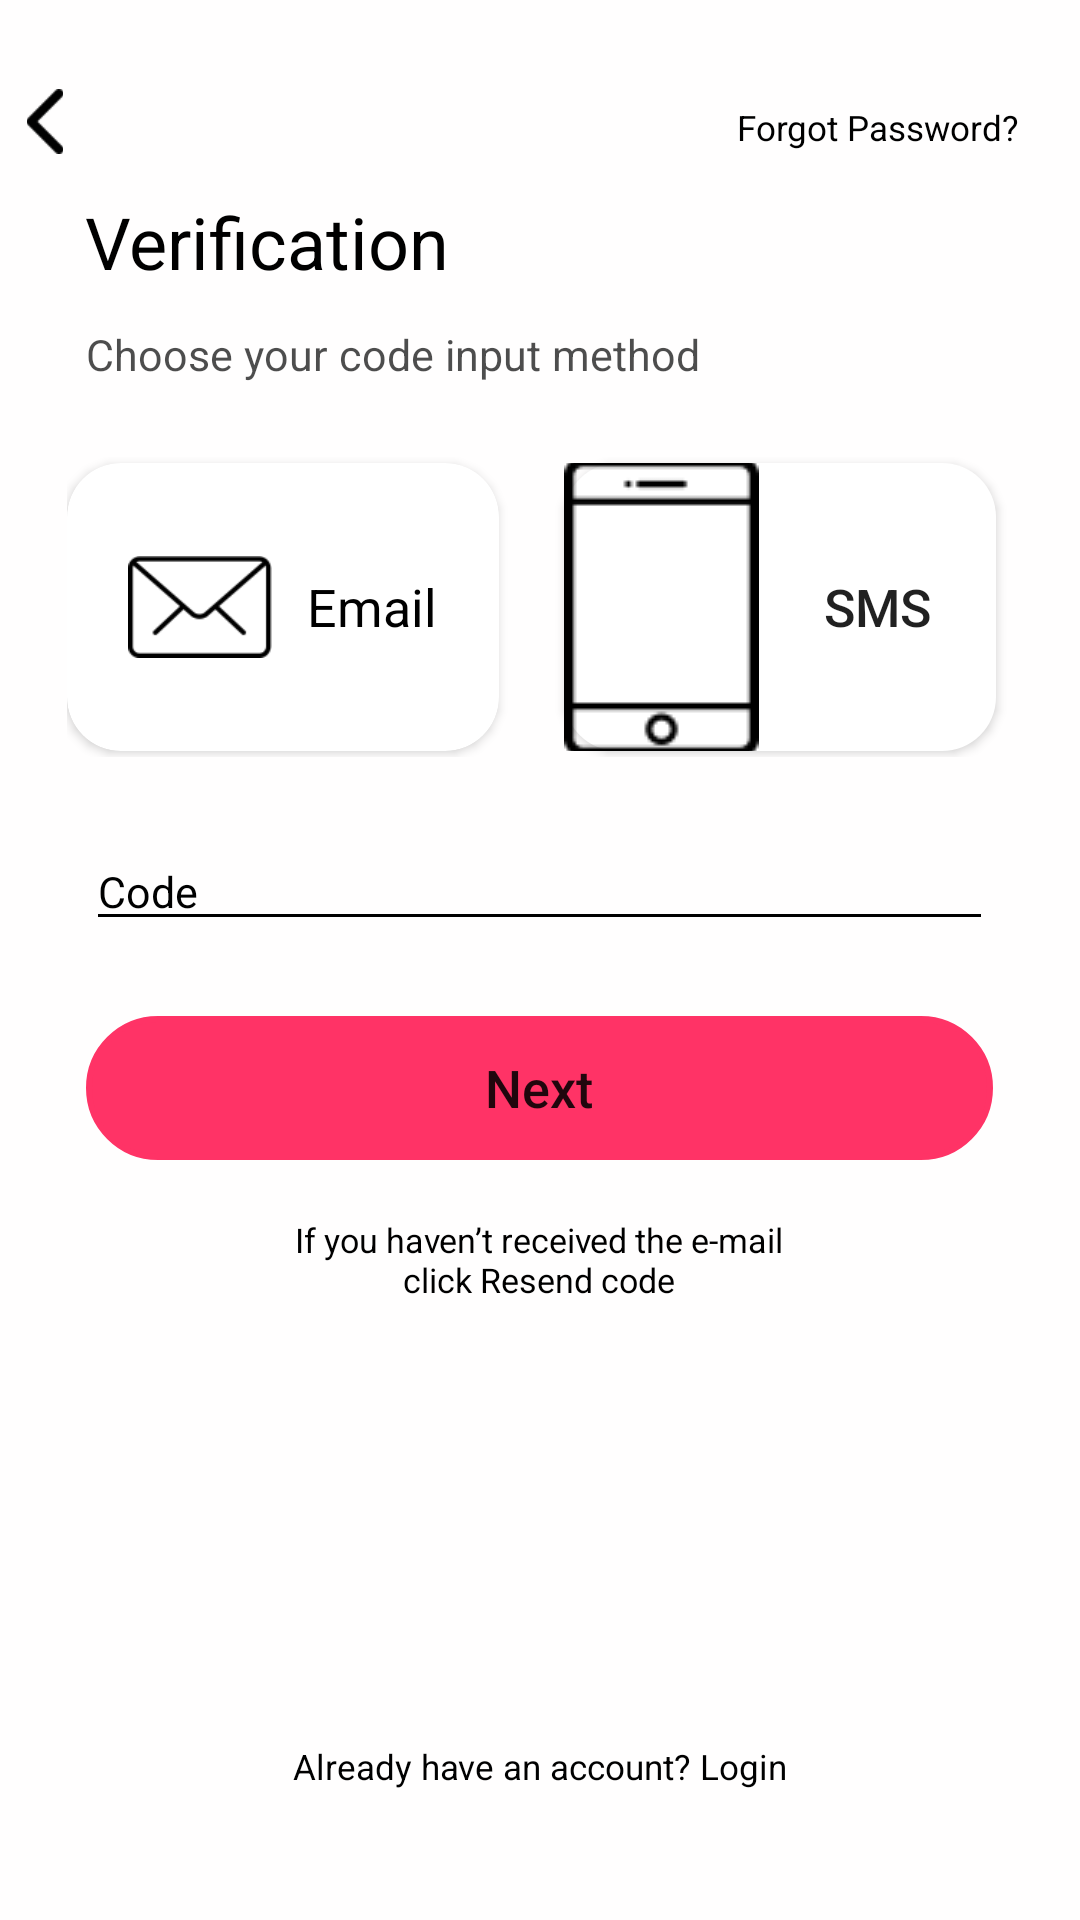

Named icons in this screenshot (1080 x 1920) and their bounding boxes, (x1, y1, x2, y2):
back: (27, 89, 63, 154)
